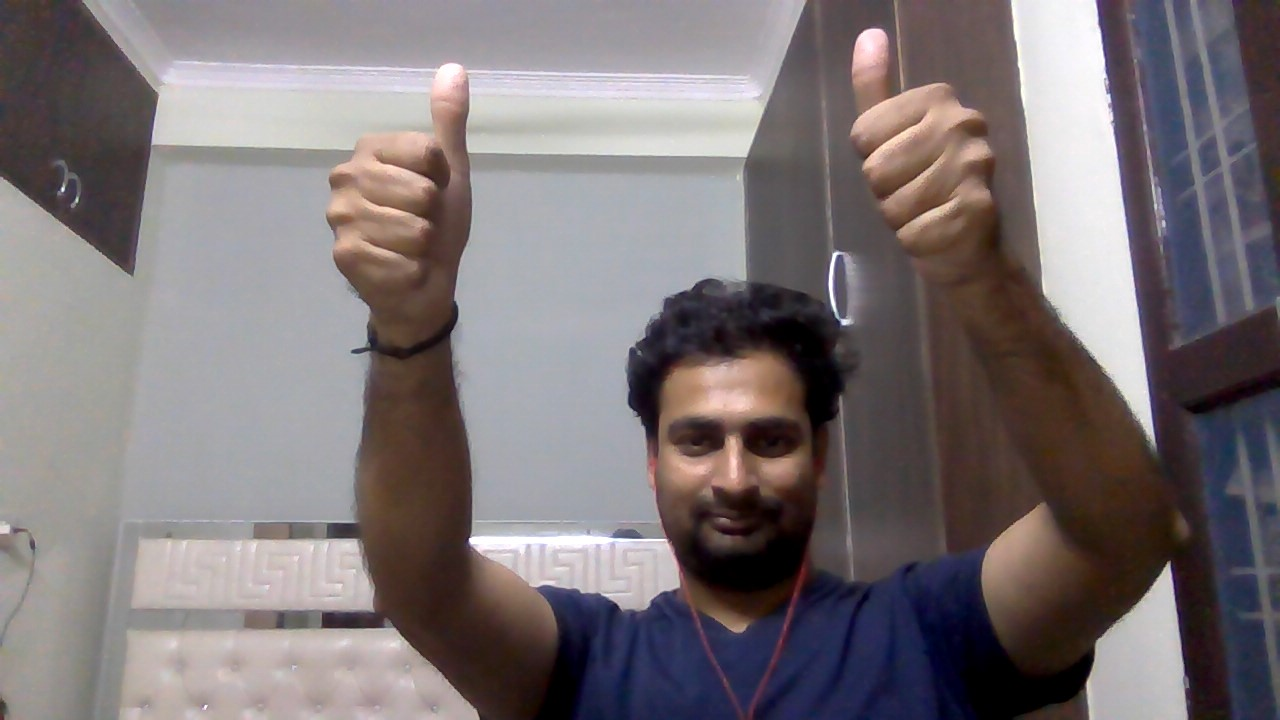Save: (834, 19, 1028, 299), (314, 50, 505, 332)
